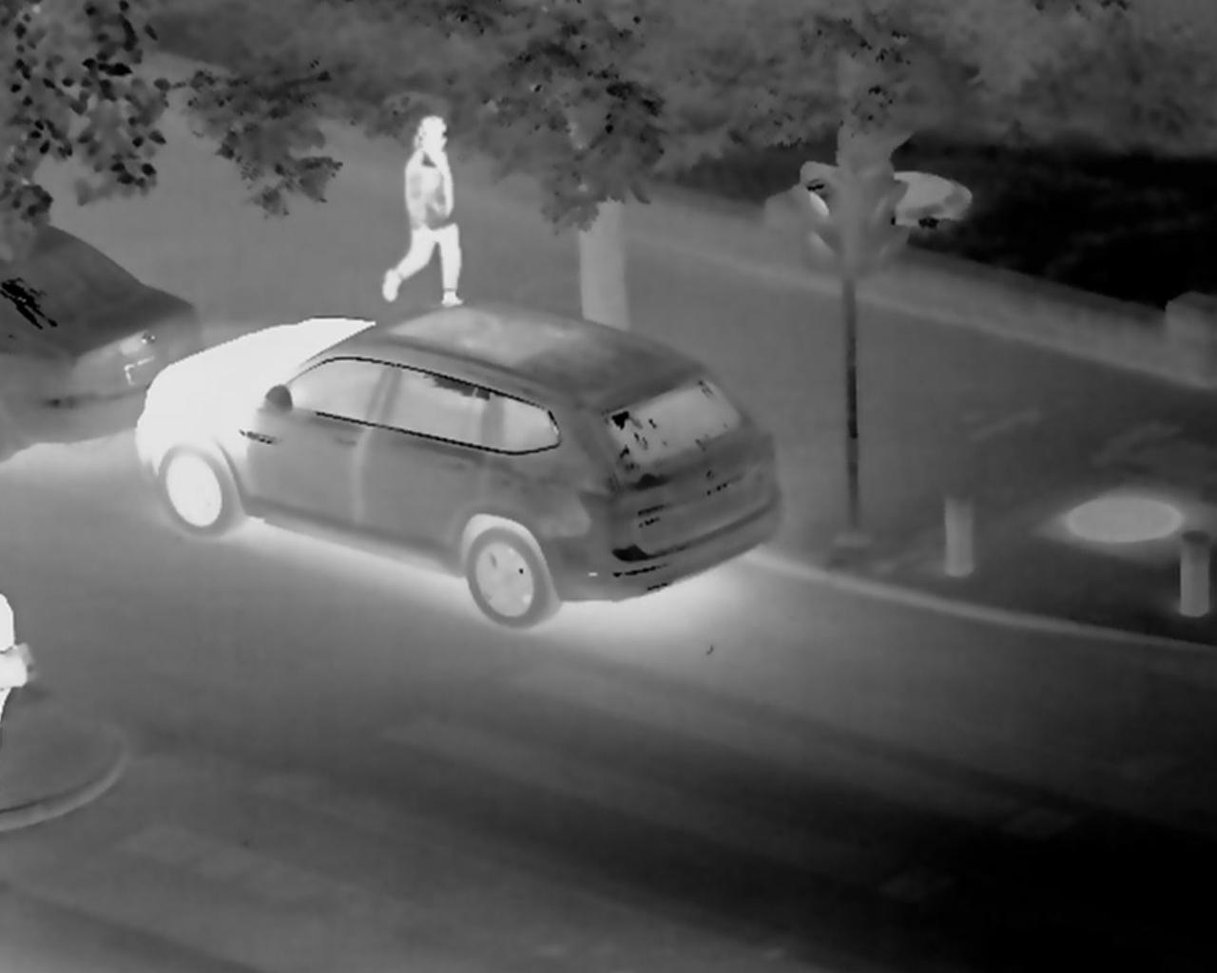person: (402, 96, 494, 342)
